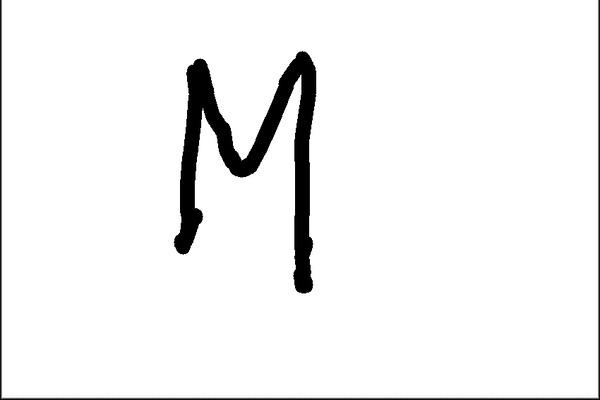M: (170, 54, 328, 300)
